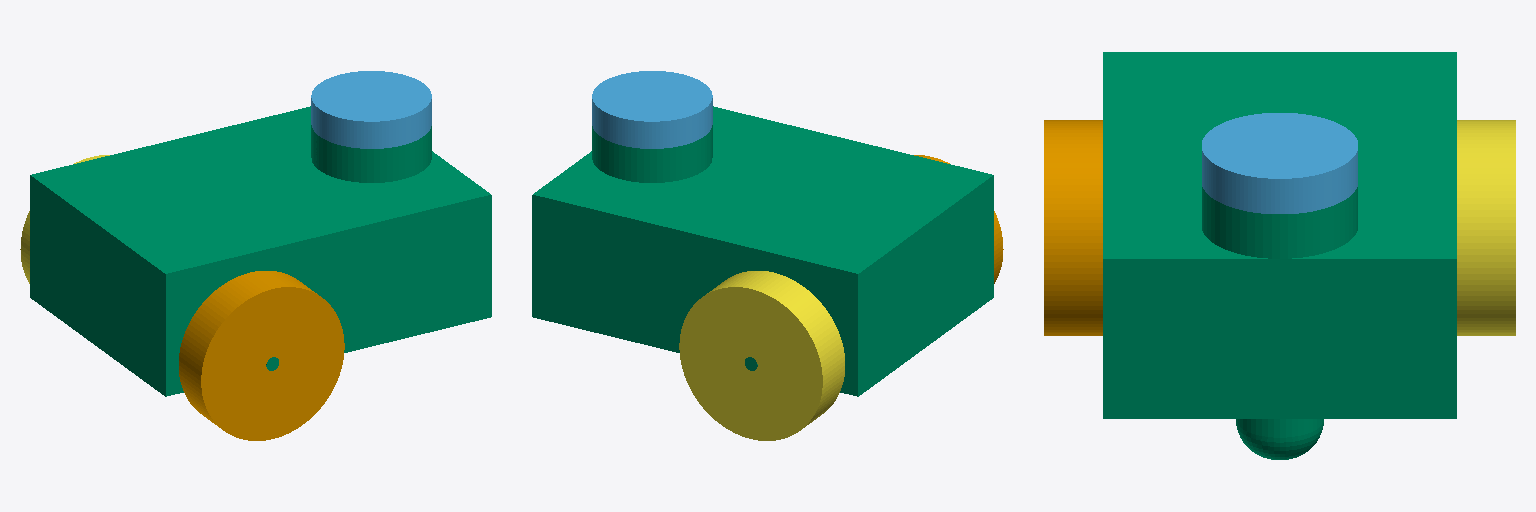
URDF robot description (fusion_robot):
<?xml version='1.0' encoding='utf-8'?>
<robot name="fusion_robot">
    <link name="right_wheel_link_1">
        <inertial>
            <origin xyz="-4.369837824924616e-15 1.4901155864777137e-11 0.015" rpy="0.0 -0.0 0.0" />
            <mass value="0.26294692039245293" />
            <inertia ixx="0.00022022133431125798" iyy="0.00022022133430771827" izz="0.00040100063056010705" ixy="3.2526065174565133e-19" iyz="6.505213034913027e-19" ixz="-2.168404344971009e-19" />
        </inertial>
        <visual name="right_wheel_link_1_visual">
            <origin xyz="0.06 -0.055 -0.09" rpy="-1.5707963267948966 -0.0 0.0" />
            <geometry>
                <mesh filename="package://fusion_robot/meshes/right_wheel_link_1.stl" scale="0.001 0.001 0.001" />
            </geometry>
        </visual>
        <collision name="right_wheel_link_1_collision">
            <origin xyz="0.06 -0.055 -0.09" rpy="-1.5707963267948966 -0.0 0.0" />
            <geometry>
                <mesh filename="package://fusion_robot/meshes/right_wheel_link_1.stl" scale="0.001 0.001 0.001" />
            </geometry>
        </collision>
    </link>
    <link name="lidar_link_1">
        <inertial>
            <origin xyz="1.7763568394002505e-17 -3.392591660227754e-17 0.009999999999999983" rpy="0.0 -0.0 0.0" />
            <mass value="0.13873273158252514" />
            <inertia ixx="6.011751701909219e-05" iyy="6.011751701909436e-05" izz="0.00011098618526601779" ixy="7.844391802791421e-21" iyz="-1.0982148523908019e-20" ixz="2.168404344971009e-19" />
        </inertial>
        <visual name="lidar_link_1_visual">
            <origin xyz="-0.085 0.0 -0.149" rpy="0.0 -0.0 0.0" />
            <geometry>
                <mesh filename="package://fusion_robot/meshes/lidar_link_1.stl" scale="0.001 0.001 0.001" />
            </geometry>
        </visual>
        <collision name="lidar_link_1_collision">
            <origin xyz="-0.085 0.0 -0.149" rpy="0.0 -0.0 0.0" />
            <geometry>
                <mesh filename="package://fusion_robot/meshes/lidar_link_1.stl" scale="0.001 0.001 0.001" />
            </geometry>
        </collision>
    </link>
    <link name="base_link">
        <inertial>
            <origin xyz="0.003458639058207387 0.0 0.08006051313388791" rpy="0.0 0.0 0.0" />
            <mass value="4.4782082828671435" />
            <inertia ixx="0.015217327368306194" iyy="0.027281258277710236" izz="0.03547433786821727" ixy="2.468004822731018e-17" iyz="1.8510036170482633e-17" ixz="-0.0003767379757184093" />
        </inertial>
        <visual name="base_link_visual">
            <origin xyz="0.0 0.0 0.0" rpy="0.0 0.0 0.0" />
            <geometry>
                <mesh filename="package://fusion_robot/meshes/base_link.stl" scale="0.001 0.001 0.001" />
            </geometry>
        </visual>
        <collision name="base_link_collision">
            <origin xyz="0.0 0.0 0.0" rpy="0.0 0.0 0.0" />
            <geometry>
                <mesh filename="package://fusion_robot/meshes/base_link.stl" scale="0.001 0.001 0.001" />
            </geometry>
        </collision>
    </link>
    <link name="left_wheel_link_1">
        <inertial>
            <origin xyz="-4.378719609121617e-15 1.4901164746561336e-11 -0.015" rpy="0.0 -0.0 0.0" />
            <mass value="0.26294692039245293" />
            <inertia ixx="0.00022022133431125884" iyy="0.00022022133430771784" izz="0.00040100063056010683" ixy="-2.168404344971009e-19" iyz="0.0" ixz="2.168404344971009e-19" />
        </inertial>
        <visual name="left_wheel_link_1_visual">
            <origin xyz="0.06 -0.055 0.09" rpy="-1.5707963267948966 -0.0 0.0" />
            <geometry>
                <mesh filename="package://fusion_robot/meshes/left_wheel_link_1.stl" scale="0.001 0.001 0.001" />
            </geometry>
        </visual>
        <collision name="left_wheel_link_1_collision">
            <origin xyz="0.06 -0.055 0.09" rpy="-1.5707963267948966 -0.0 0.0" />
            <geometry>
                <mesh filename="package://fusion_robot/meshes/left_wheel_link_1.stl" scale="0.001 0.001 0.001" />
            </geometry>
        </collision>
    </link>
    <joint name="base_link_lidar_joint" type="fixed">
        <origin xyz="0.085 0.0 0.149" rpy="0.0 -0.0 0.0" />
        <parent link="base_link" />
        <child link="lidar_link_1" />
    </joint>
    <joint name="base_link_right_wheel_joint" type="continuous">
        <origin xyz="-0.06 -0.09 0.055" rpy="1.5707963267948966 -0.0 0.0" />
        <parent link="base_link" />
        <child link="right_wheel_link_1" />
        <axis xyz="0.0 0.0 1.0" />
    </joint>
    <joint name="base_link_left_wheel_joint" type="continuous">
        <origin xyz="-0.06 0.09 0.055" rpy="1.5707963267948966 -0.0 0.0" />
        <parent link="base_link" />
        <child link="left_wheel_link_1" />
        <axis xyz="0.0 0.0 1.0" />
    </joint>
</robot>

--- What the picture shows (computed from the rendered views, not written in the file) ---
3 views of the same robot in one strip: view 1: azimuth 30°, elevation 25°; view 2: azimuth 150°, elevation 25°; view 3: azimuth 270°, elevation 25° (orthographic).
Model fusion_robot with 4 links and 3 joints (2 continuous, 1 fixed), rooted at base_link, posed all joints at 0.
Visible links, largest first — view 1: base_link, right_wheel_link_1, lidar_link_1, left_wheel_link_1; view 2: base_link, left_wheel_link_1, lidar_link_1, right_wheel_link_1; view 3: base_link, lidar_link_1, right_wheel_link_1, left_wheel_link_1.
Boxes of the visible links, <box> form: base_link: <box>30,106,491,396</box>; right_wheel_link_1: <box>179,271,344,440</box>; lidar_link_1: <box>311,71,431,148</box>; left_wheel_link_1: <box>20,155,109,283</box>; base_link: <box>532,106,993,396</box>; left_wheel_link_1: <box>679,271,844,440</box>; lidar_link_1: <box>592,71,712,148</box>; right_wheel_link_1: <box>914,155,1003,283</box>; base_link: <box>1103,52,1456,459</box>; lidar_link_1: <box>1202,113,1357,213</box>; right_wheel_link_1: <box>1044,120,1102,335</box>; left_wheel_link_1: <box>1457,120,1515,335</box>.
Bounding box of the posed robot: 0.25 × 0.24 × 0.169 m (x, y, z).
Meshes: 4 distinct files referenced, 4 mesh visuals loaded (4 binary STL).